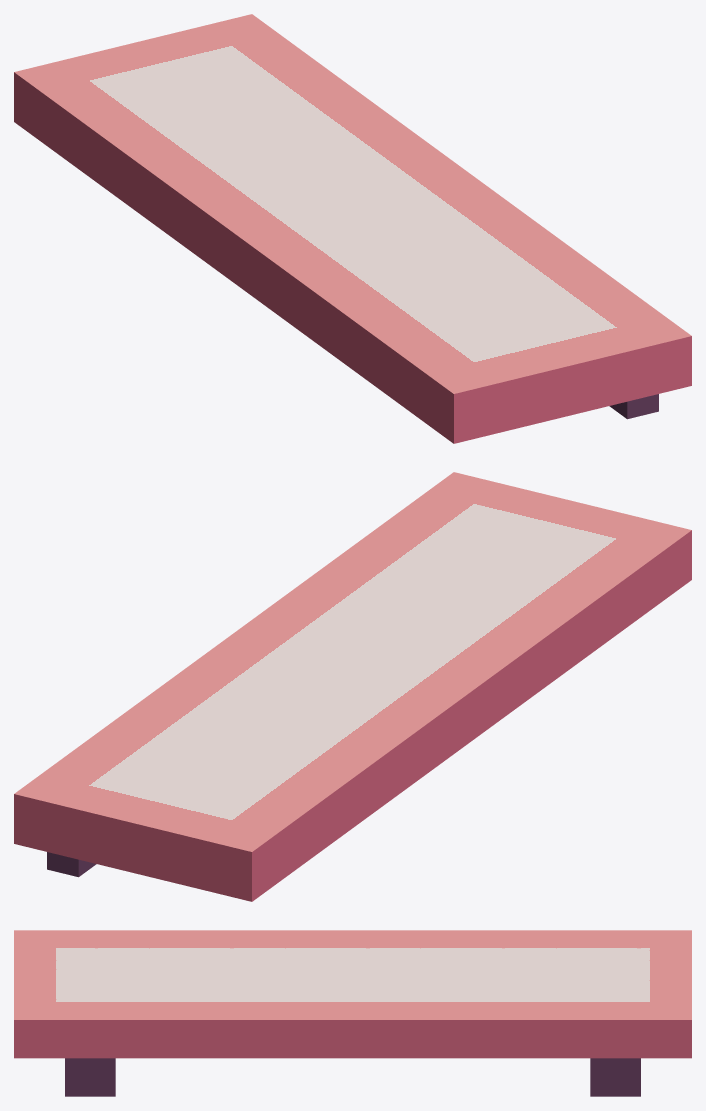
Rendered from Shelf.gltf.
The picture shows the model from 3 angles, top to bottom: view 1: azimuth 30°, elevation 25°; view 2: azimuth 150°, elevation 25°; view 3: azimuth 270°, elevation 25°; orthographic projection. The views are drawn at different scales.
Visible parts, largest first — view 1: cuboid; view 2: cuboid; view 3: cuboid.
Part boxes in pixels (x1,y1,x2,y2): cuboid: [14, 14, 691, 443]; cuboid: [14, 472, 691, 901]; cuboid: [14, 930, 691, 1096].
Size of the model in its own units: 0.3125 by 0.125 by 1.
Materials: 1 (1 with a texture image).
